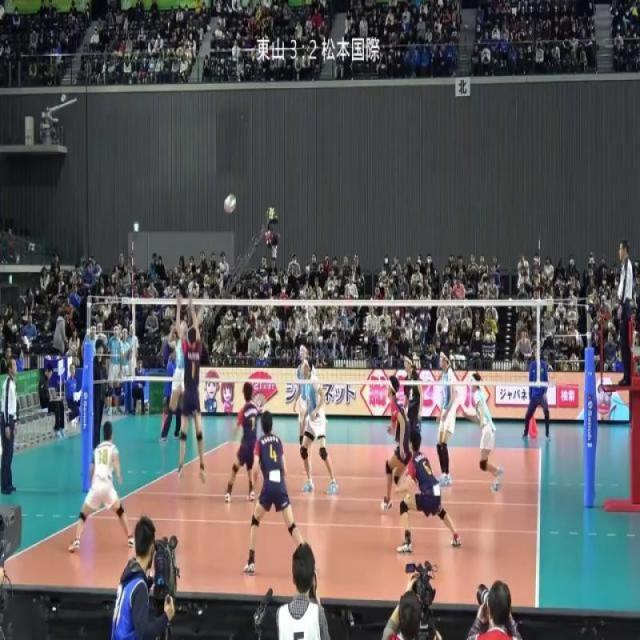volleyball: (224, 192, 236, 214)
